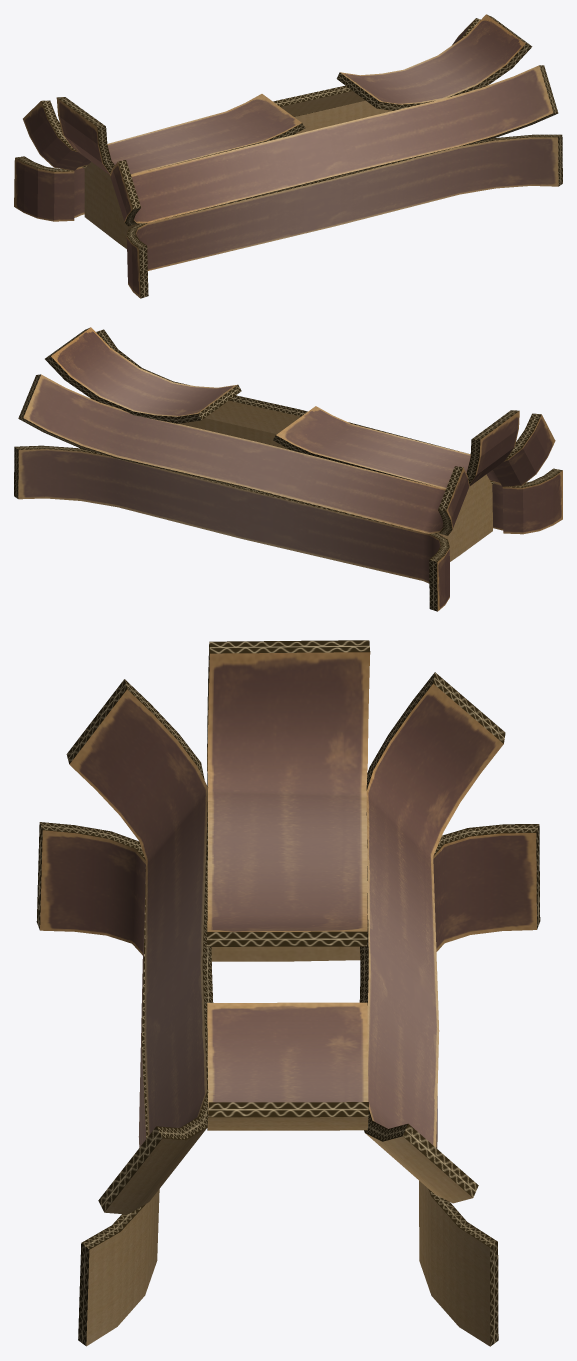
Rendered from H Tree Trunk.fbx.
3 views of the same model, one above another, from view 1: azimuth 30°, elevation 25°; view 2: azimuth 150°, elevation 25°; view 3: azimuth 270°, elevation 25° (orthographic). The views are drawn at different scales.
Parts seen in each view (by area): view 1: H_Tree_Trunk; view 2: H_Tree_Trunk; view 3: H_Tree_Trunk.
Part boxes in pixels (x1,y1,x2,y2): H_Tree_Trunk: (14,14,562,298); H_Tree_Trunk: (14,327,562,611); H_Tree_Trunk: (36,640,540,1346).
Bounding box in the file's own units: 6.28 × 1.94 × 3.14.
Materials: 1 (1 with a texture image).
